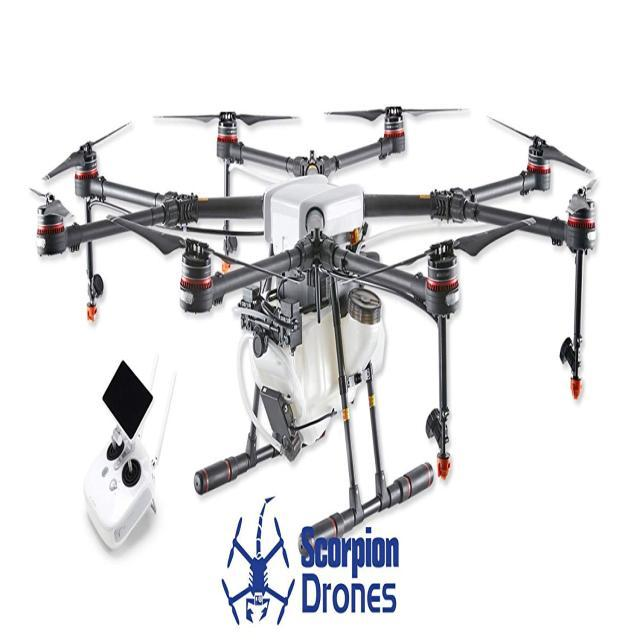drone: (25, 84, 621, 442)
